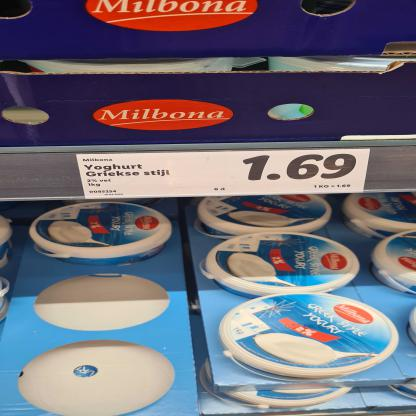prtg: (77, 150, 372, 200)
